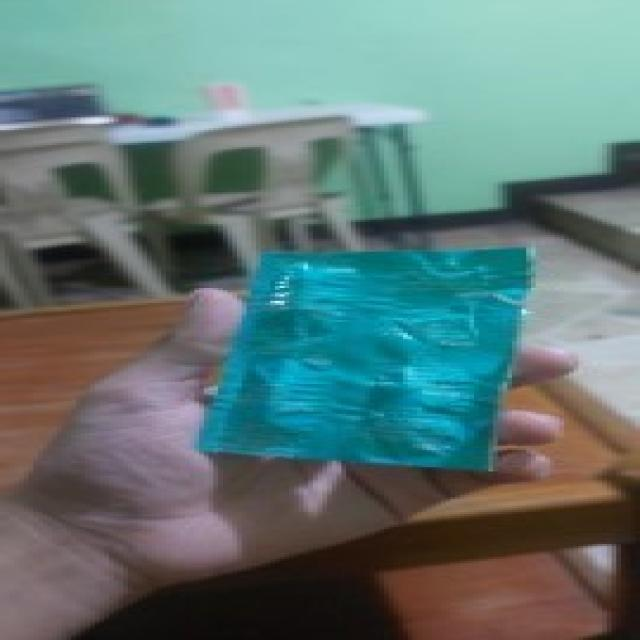Cacat: (190, 248, 542, 471)
